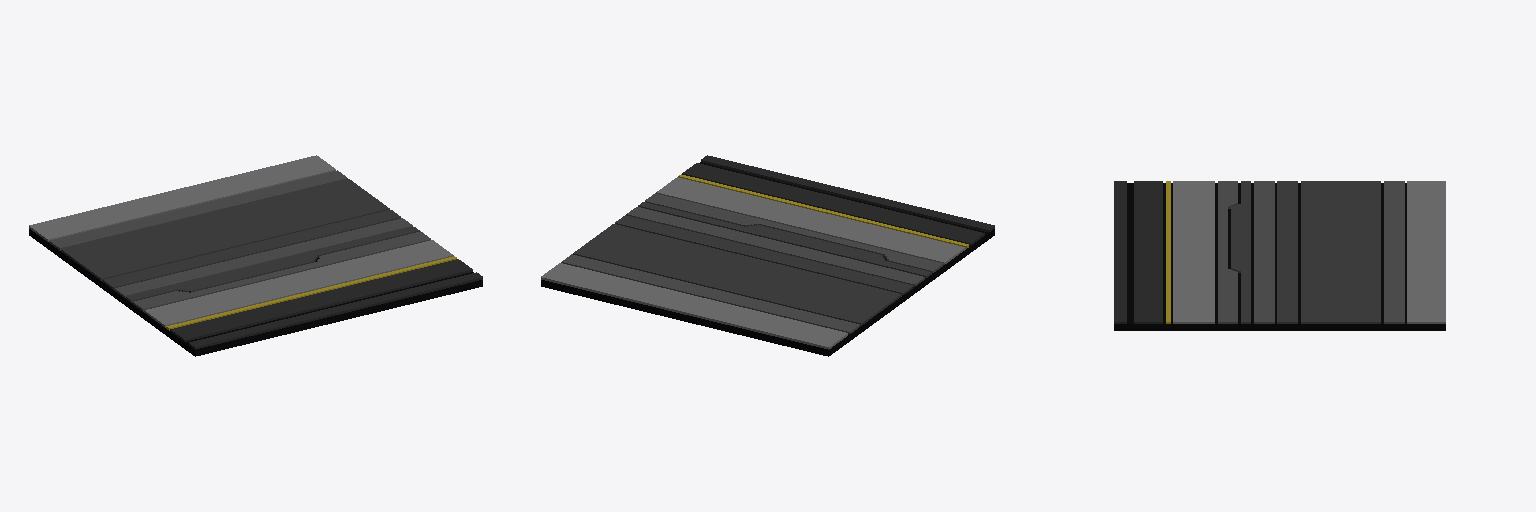
3 views of the same model, side by side, from view 1: azimuth 30°, elevation 25°; view 2: azimuth 150°, elevation 25°; view 3: azimuth 270°, elevation 25° (orthographic).
Visible parts, largest first — view 1: Floor_A; view 2: Floor_A; view 3: Floor_A.
Boxes of the visible parts, x1,y1,x2,y2 form: Floor_A: [29, 155, 482, 356]; Floor_A: [541, 155, 994, 356]; Floor_A: [1114, 181, 1445, 330].
Bounding box in the file's own units: 128 × 4 × 128.
1 materials, 1 textured.